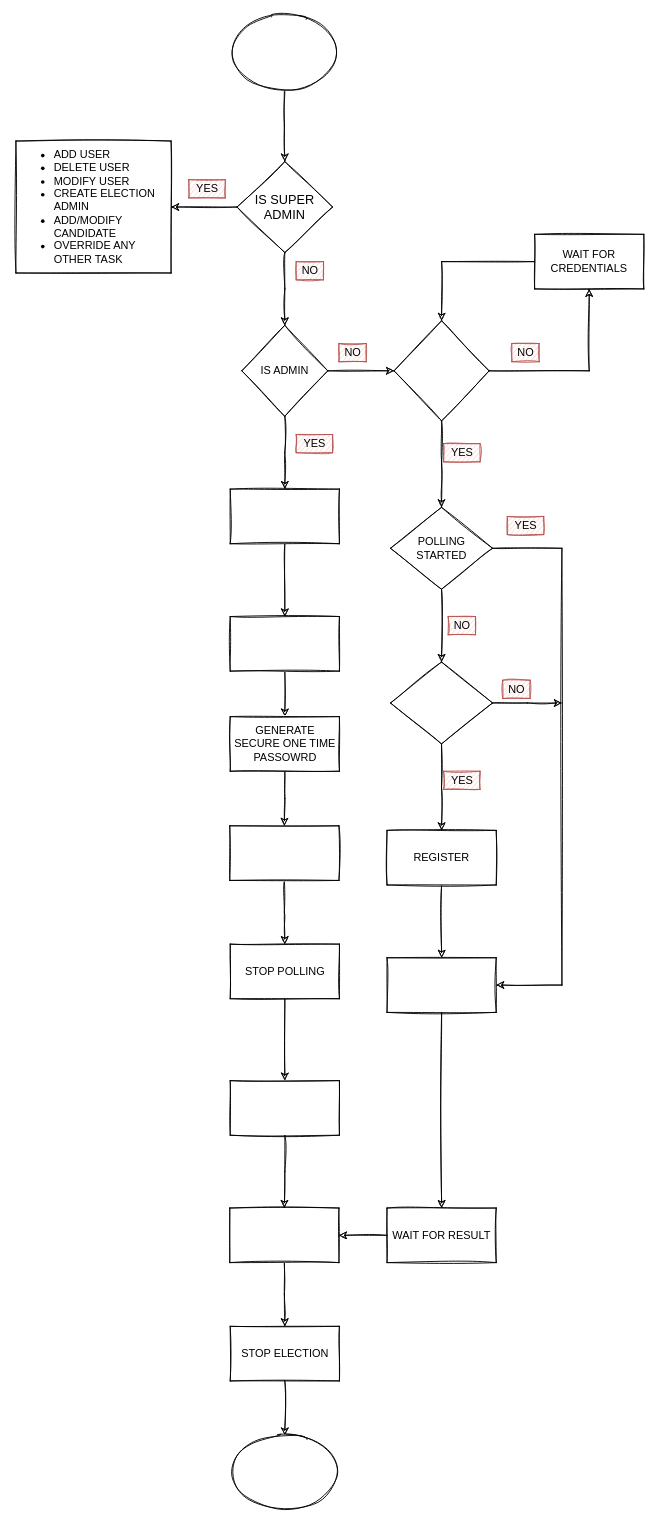
Image size: 660x1524. Some labels were removed from this diagram. The shapes that lost their labels are listed below. From the top down, each one's centre as x and y in pixels, then its label:
point 284,52: START
point 441,370: HAS CREDENTIALS
point 284,516: ADMIN LOGIN
point 284,643: START ELECTION
point 441,702: ARE YOU CANDIDATE
point 284,852: START POLLING
point 441,984: CAST YOUR VOTE WHEN POLLING STARTS
point 284,1107: DECLARE RESULT
point 284,1235: VIEW RESULTS
point 284,1471: END
